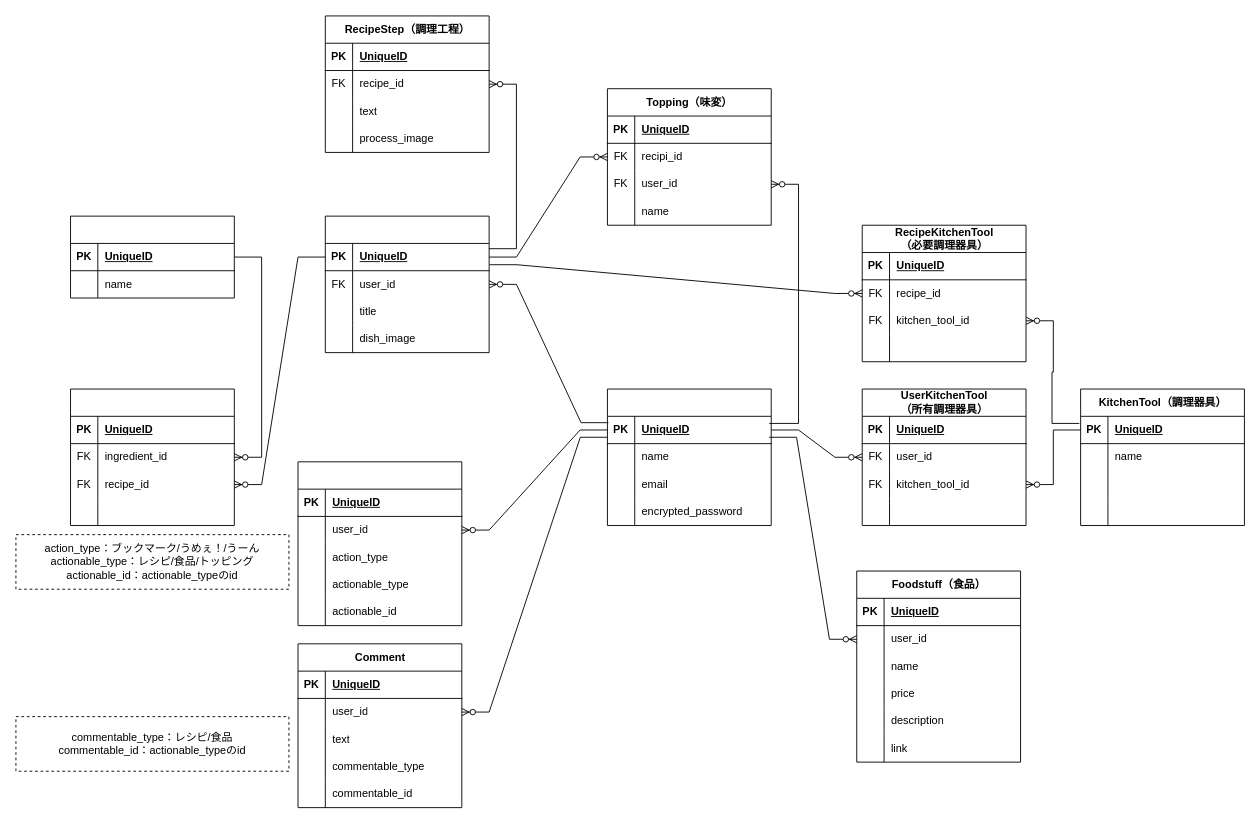
Image size: 1260x824. Some labels were removed from this diagram. The shapes that lost their labels are listed below. From the top down, each one's box as (x1, y1, x2, y2) in pixels, then its label:
(70, 215, 234, 298): Ingredient（材料）
(324, 215, 489, 353): Recipe（レシピ）
(70, 388, 234, 526): Recipe-Ingredient （必要な材料）
(607, 388, 771, 526): User（ユーザー）
(297, 461, 462, 626): UserAction
